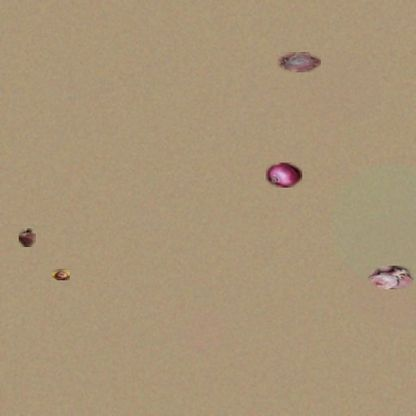damaged: (277, 52, 321, 72)
healthy: (266, 162, 302, 188), (52, 269, 70, 280)
sprouted: (368, 266, 414, 289), (19, 228, 36, 247)
